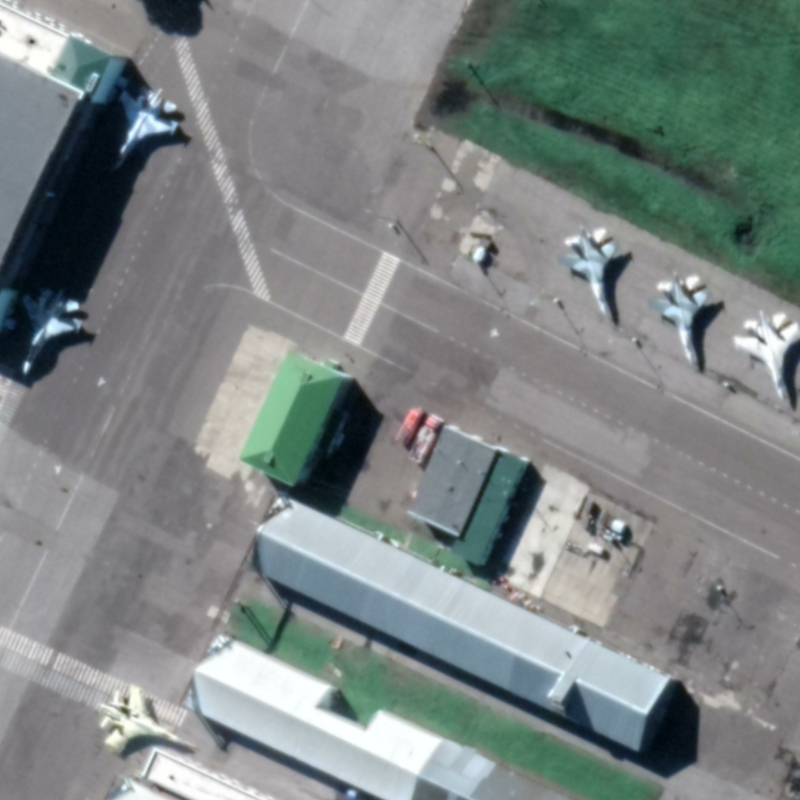A1: (94, 679, 198, 757), (730, 307, 800, 406), (645, 269, 713, 370), (15, 286, 87, 376), (553, 223, 618, 320), (110, 83, 180, 173)
